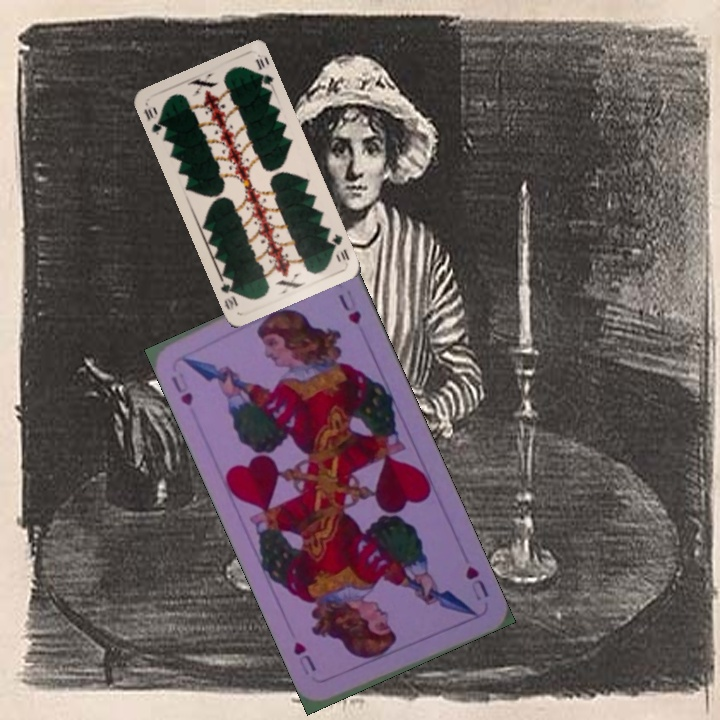G10: (140, 103, 166, 138), (327, 230, 352, 263)
HU: (461, 562, 491, 603), (167, 368, 196, 409)
